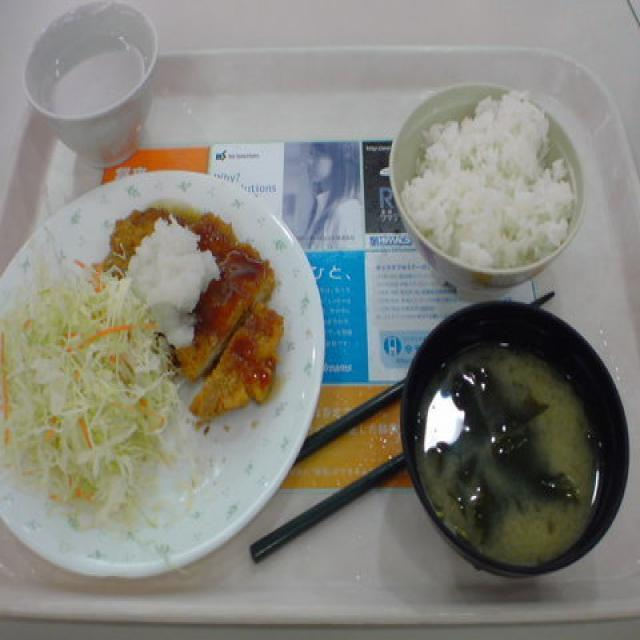Green Salad: (11, 294, 150, 488)
Rice: (428, 113, 550, 250)
